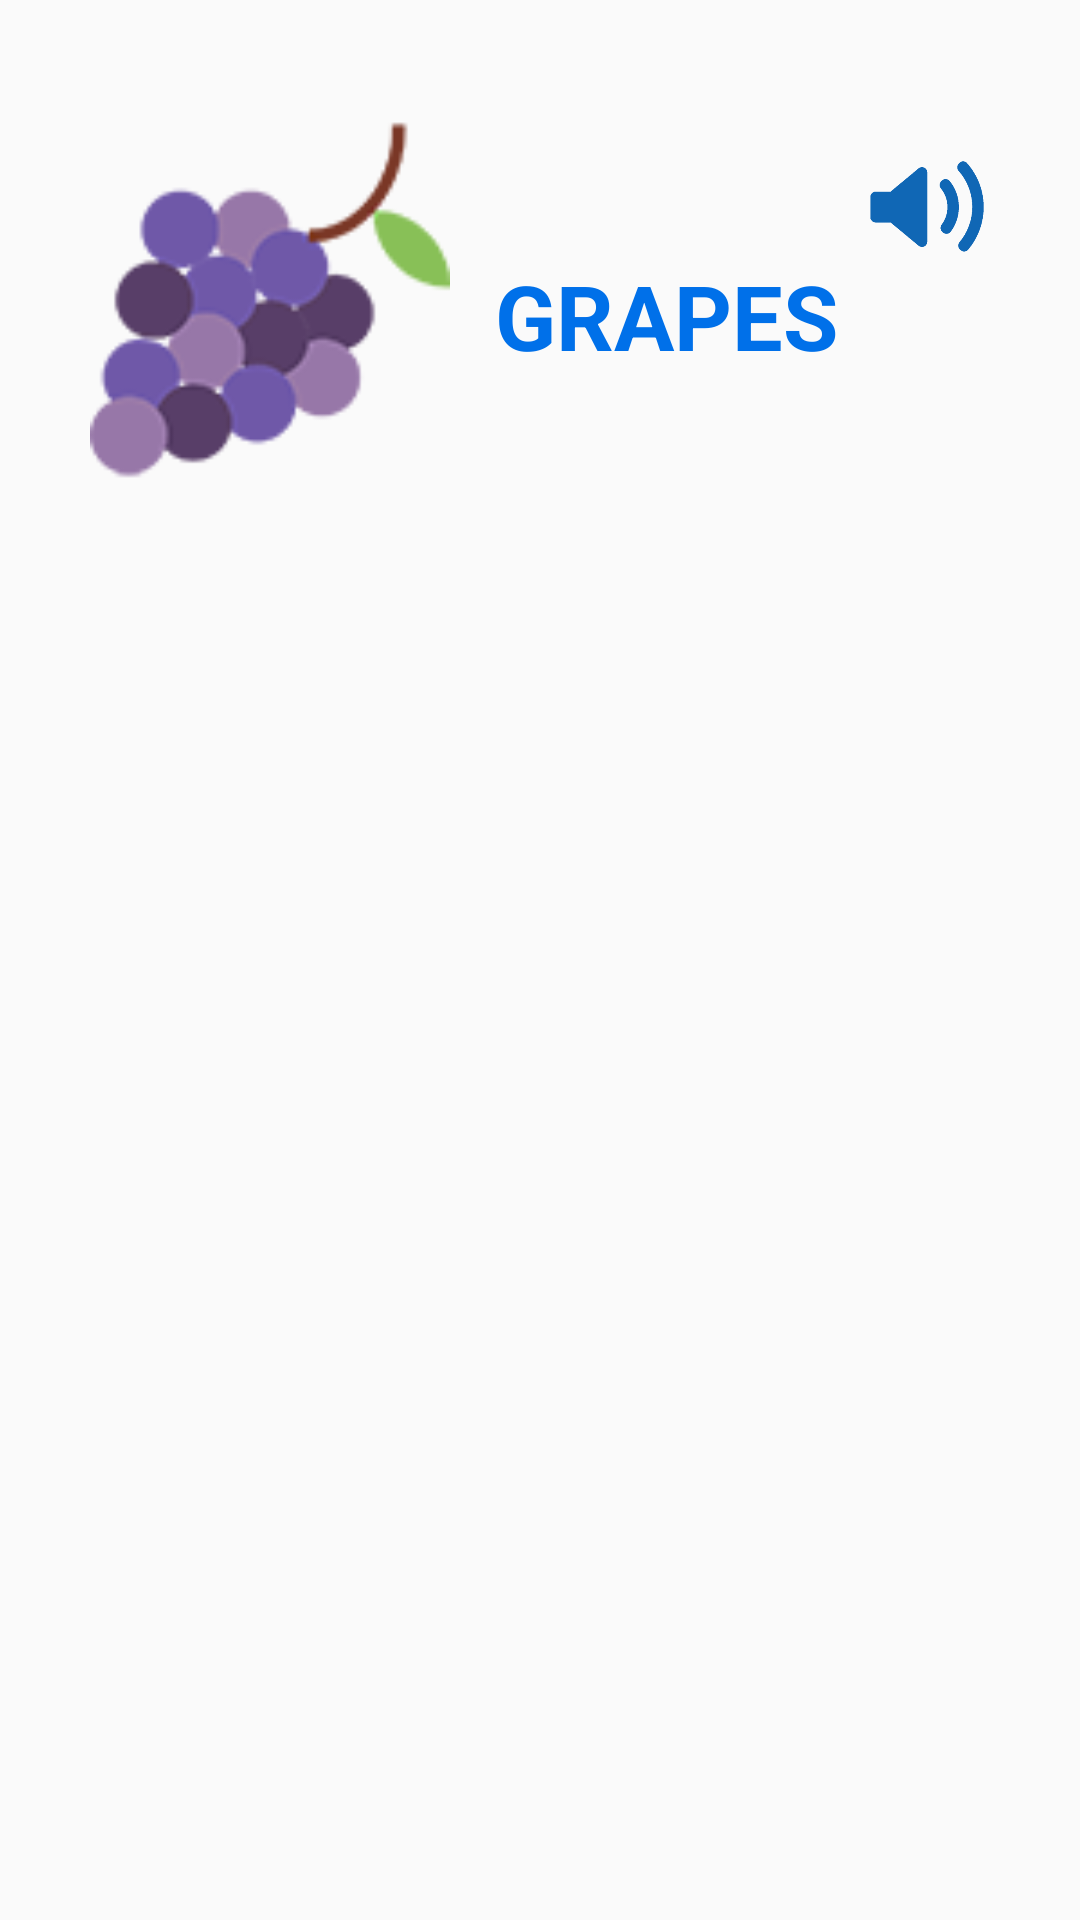

Named icons in this screenshot (1080 × 1920) and their bounding boxes, (x1, y1, x2, y2):
audio: (870, 161, 984, 252)
